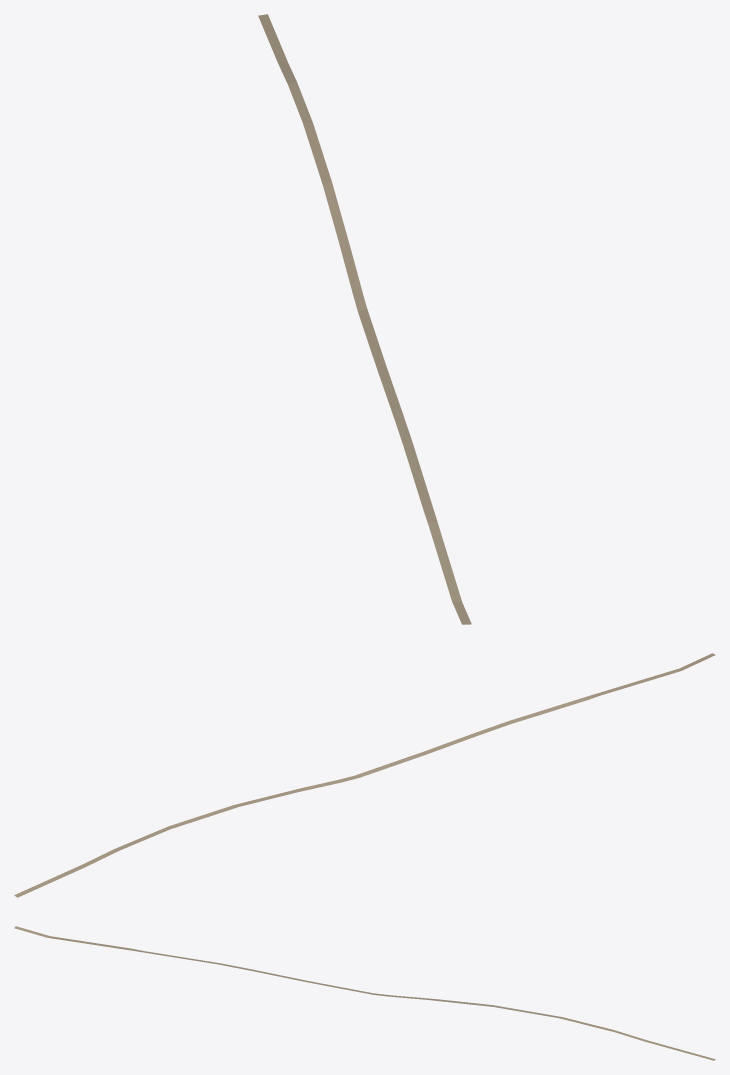
File: farm_-31_-33_track.glb
3 renders of one model, top to bottom at view 1: azimuth 30°, elevation 25°; view 2: azimuth 150°, elevation 25°; view 3: azimuth 270°, elevation 25°, orthographic. The views are drawn at different scales.
Parts seen in each view (by area): view 1: geometry_0; view 2: geometry_0; view 3: geometry_0.
Boxes of the visible parts, bbox=[...] form: geometry_0: bbox=[258, 14, 471, 624]; geometry_0: bbox=[14, 653, 715, 897]; geometry_0: bbox=[14, 926, 715, 1060].
Bounding box in the file's own units: 193 × 11.92 × 467.
